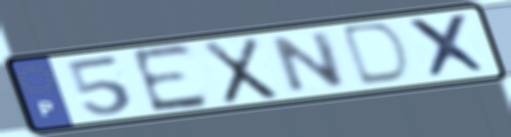5: (63, 53, 136, 118)
D: (340, 20, 413, 89)
E: (126, 41, 214, 117)
N: (269, 28, 350, 96)
X: (402, 11, 496, 81), (199, 34, 282, 107)
